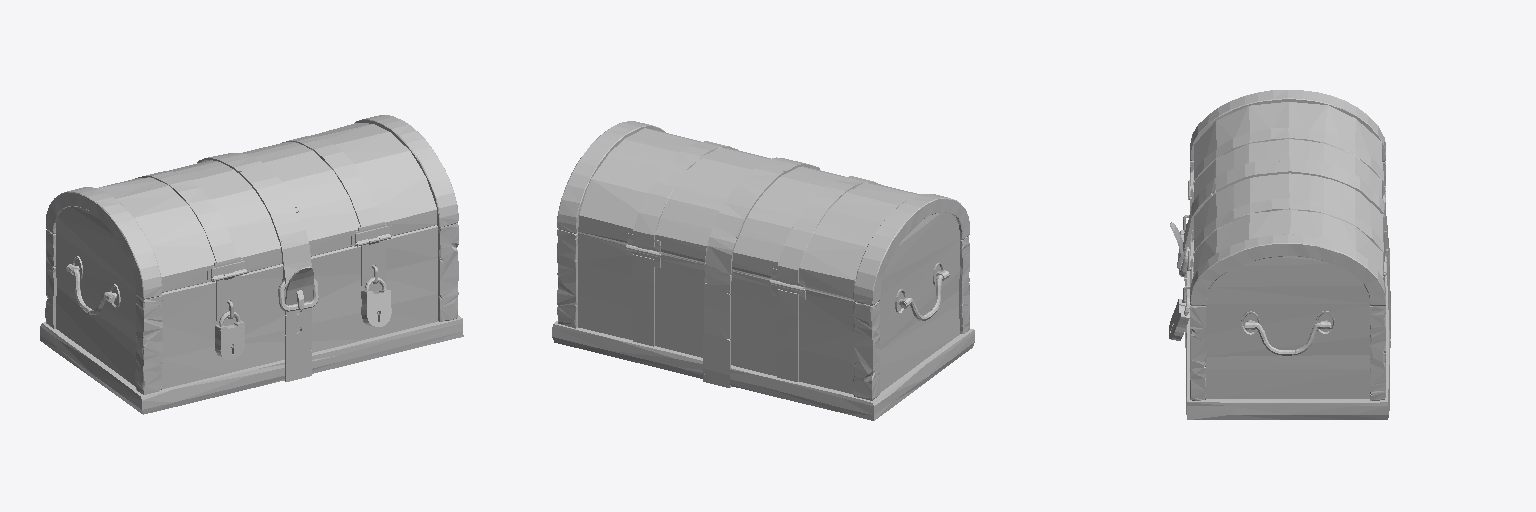
The model's file is chest.obj.
The picture shows the model from 3 angles: view 1: azimuth 30°, elevation 25°; view 2: azimuth 150°, elevation 25°; view 3: azimuth 270°, elevation 25°; orthographic projection.
Parts seen in each view (by area): view 1: defaultMaterial, defaultMaterial.001; view 2: defaultMaterial; view 3: defaultMaterial, defaultMaterial.001.
Part boxes in pixels (x1,y1,x2,y2): defaultMaterial: (40,115,463,414); defaultMaterial.001: (361,277,391,326); defaultMaterial: (552,121,974,420); defaultMaterial: (1170,90,1390,419); defaultMaterial.001: (1169,295,1189,340).
Size of the model in its own units: 2 by 1.03 by 1.15.